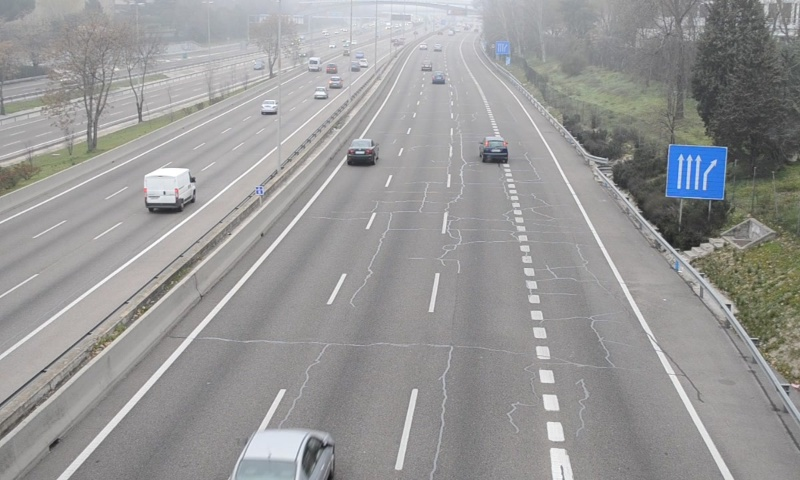car: (346, 138, 378, 164), (481, 136, 508, 162)
